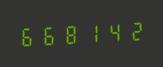eight: (60, 21, 80, 47)
four: (102, 18, 122, 44)
one: (81, 20, 101, 45)
six: (17, 23, 37, 49), (38, 22, 58, 48)
two: (123, 17, 143, 43)
